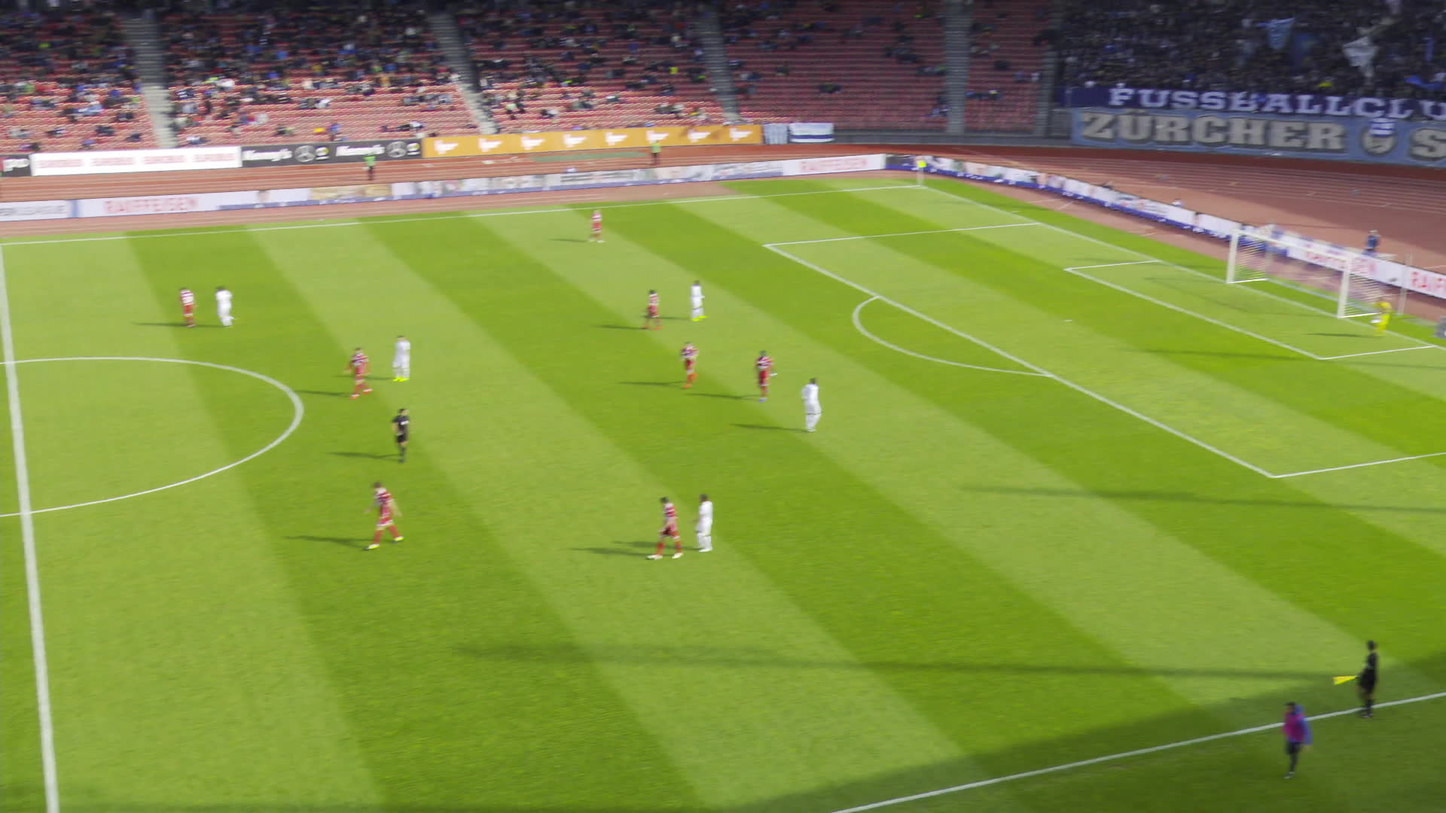player: (377, 477, 415, 545), (659, 489, 694, 559), (351, 341, 385, 396), (698, 490, 725, 551), (764, 345, 791, 402), (809, 373, 835, 432), (401, 332, 426, 382), (224, 282, 251, 327), (690, 336, 713, 383), (651, 285, 675, 329), (1377, 294, 1401, 337), (186, 282, 208, 323), (697, 277, 717, 319), (596, 206, 615, 243)
referee: (1365, 638, 1390, 717), (398, 403, 426, 462)
